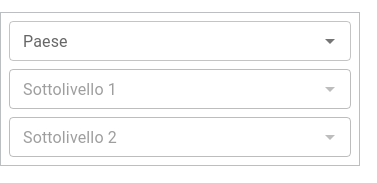
Test case: CountrySelectorPanel › renders only countries with a selectable ISO code
The image size is (377, 183).
Click the dropdown labelled "Paese".
click(164, 41)  # box [15,27,312,55]
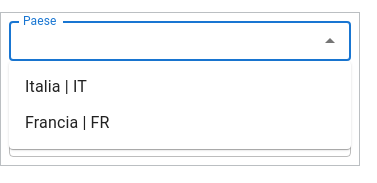
Expected: the option "Italia | IT" is shown, [25,77,87,96]
Expected: the option "Francia | FR" is shown, [25,113,110,132]
